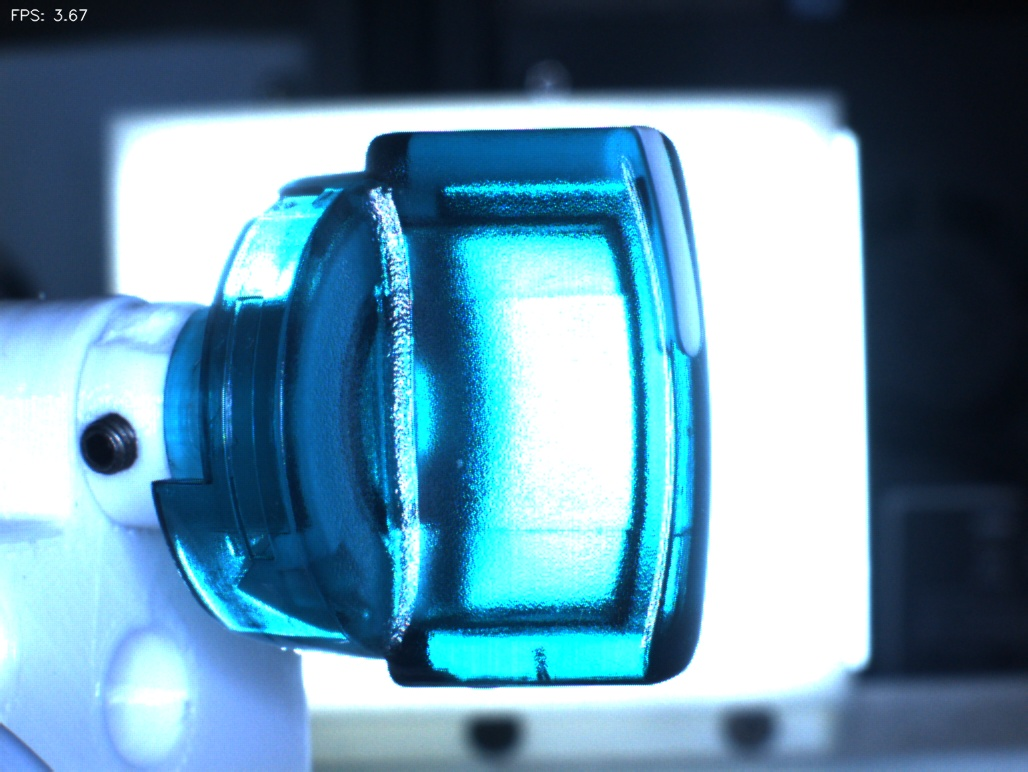Bulle: (500, 622, 584, 704)
